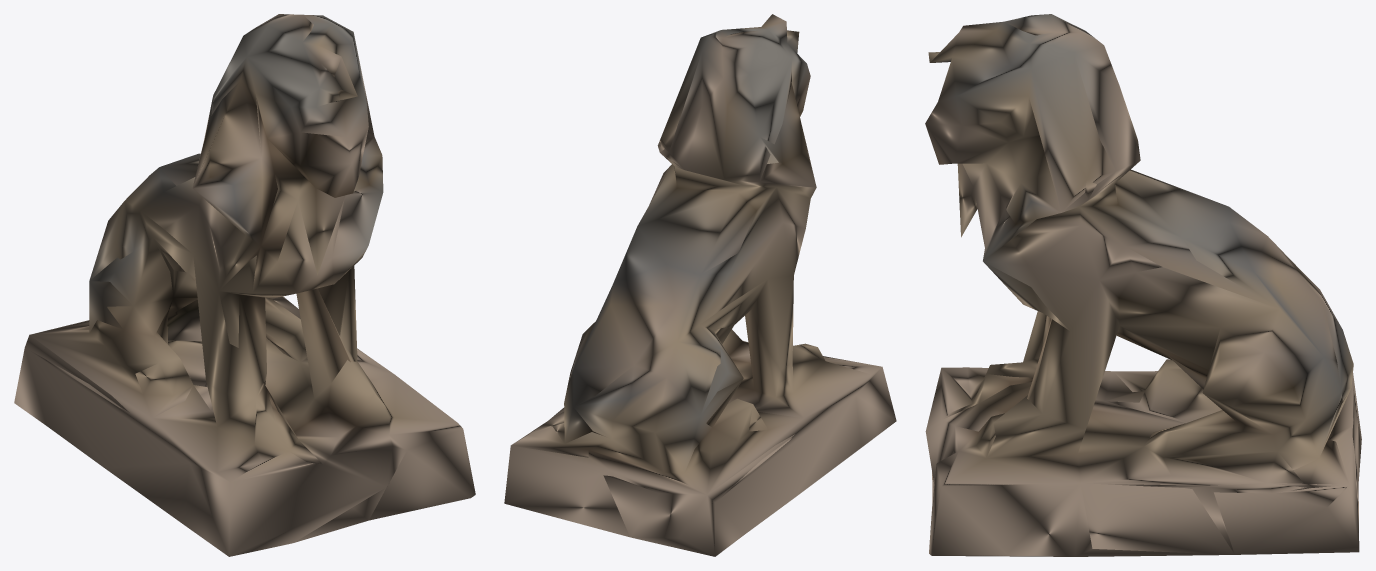
File: gen3d-sphinx-statue-lod1.glb
3 views of the same model, side by side, from view 1: azimuth 30°, elevation 25°; view 2: azimuth 150°, elevation 25°; view 3: azimuth 270°, elevation 25° (orthographic). The views are drawn at different scales.
Parts seen in each view (by area): view 1: part_0; view 2: part_0; view 3: part_0.
Part boxes in pixels (x1,y1,x2,y2): part_0: (14,14,475,556); part_0: (504,14,896,556); part_0: (925,14,1361,556).
Size of the model in its own units: 0.5683 by 0.9894 by 0.828.
